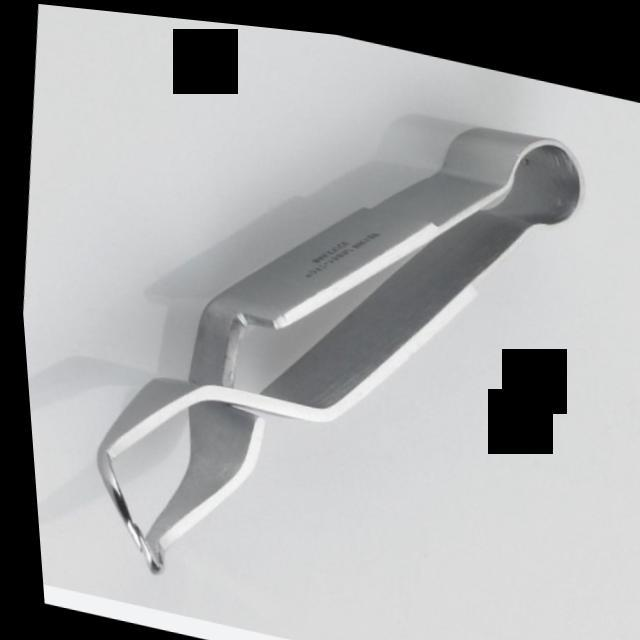Doyen Cross Action Towel Clamp: (57, 29, 618, 640)
